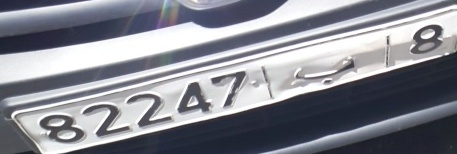2: (80, 99, 136, 140), (122, 89, 176, 130)
4: (172, 79, 216, 116)
7: (210, 68, 257, 112)
8: (38, 111, 88, 147), (406, 24, 451, 58)
b: (282, 53, 363, 90)
